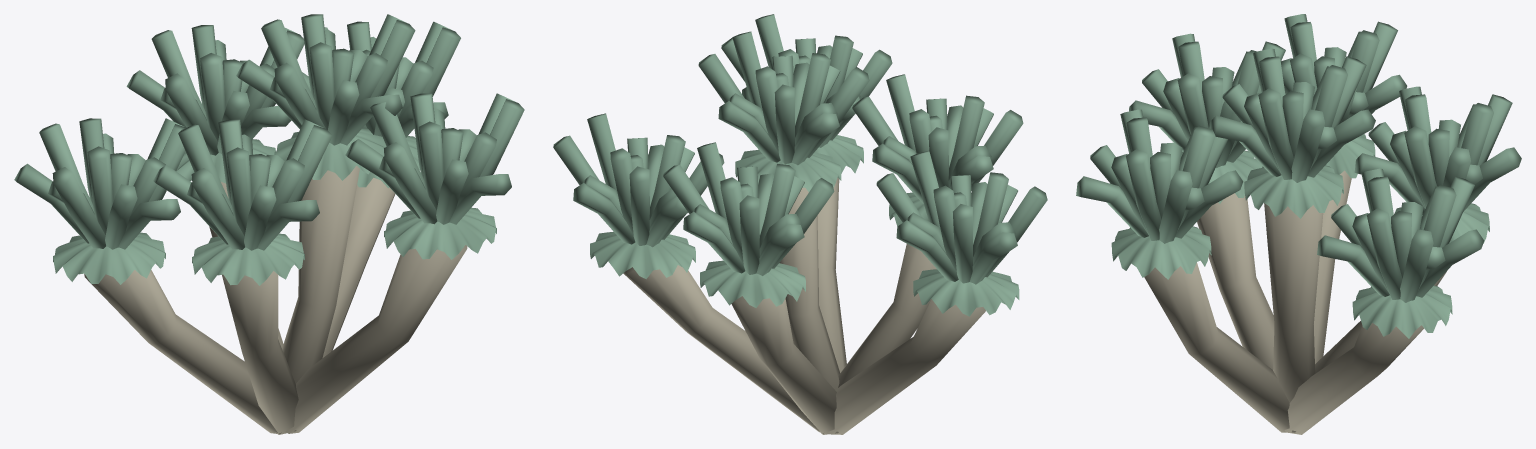
Rendered from candy-mobile.glb.
3 views of the same model, side by side, from view 1: azimuth 30°, elevation 25°; view 2: azimuth 150°, elevation 25°; view 3: azimuth 270°, elevation 25° (orthographic). The views are drawn at different scales.
Visible parts, largest first — view 1: fleshy-tentacle, branching-corallum; view 2: fleshy-tentacle, branching-corallum; view 3: fleshy-tentacle, branching-corallum.
Boxes of the visible parts, bbox=[...] form: fleshy-tentacle: bbox=[14, 14, 524, 285]; branching-corallum: bbox=[84, 166, 467, 434]; fleshy-tentacle: bbox=[553, 14, 1047, 316]; branching-corallum: bbox=[623, 177, 985, 434]; fleshy-tentacle: bbox=[1076, 14, 1521, 338]; branching-corallum: bbox=[1144, 170, 1447, 434].
Size of the model in its own units: 0.5972 by 0.4809 by 0.4988.
